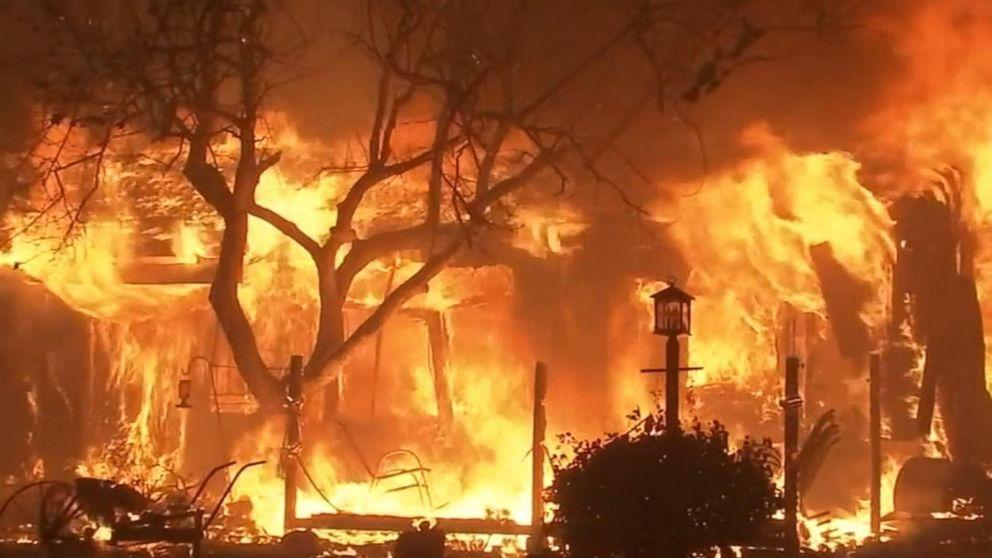Fire: (15, 82, 992, 534)
